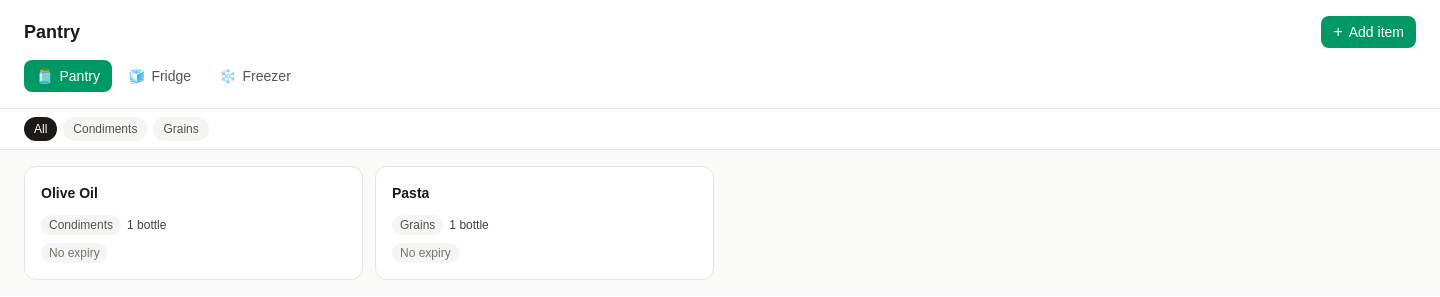
Test: PantryPage › restores all items when All filter is clicked
Check: the text "Pasta" is shown, box [392,183,429,203]
Click the button "Condiments": (105, 129) [63,117,147,141]
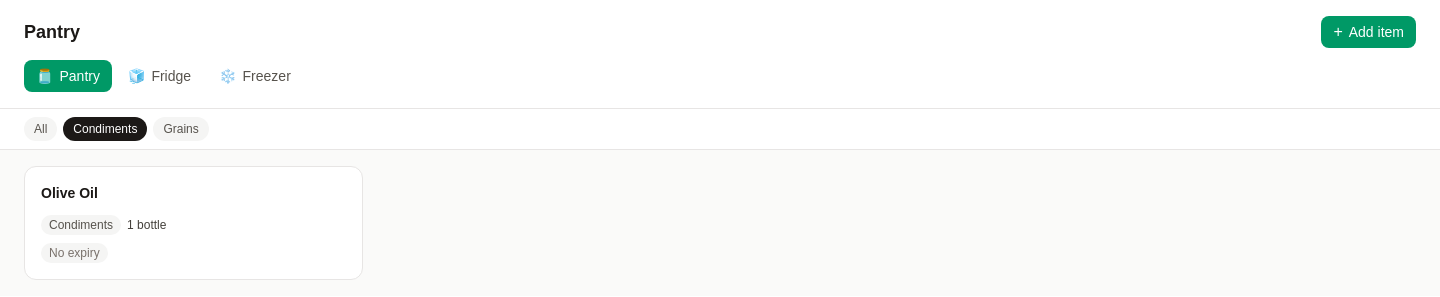
Click the button "All": (41, 129) [24,117,57,141]
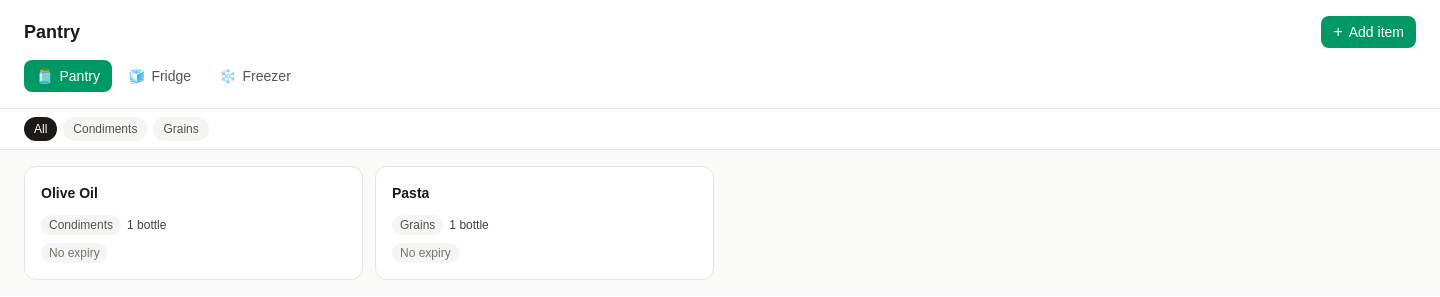
Check: the text "Olive Oil" is shown, box [41,183,98,203]
Check: the text "Pasta" is shown, box [392,183,429,203]
